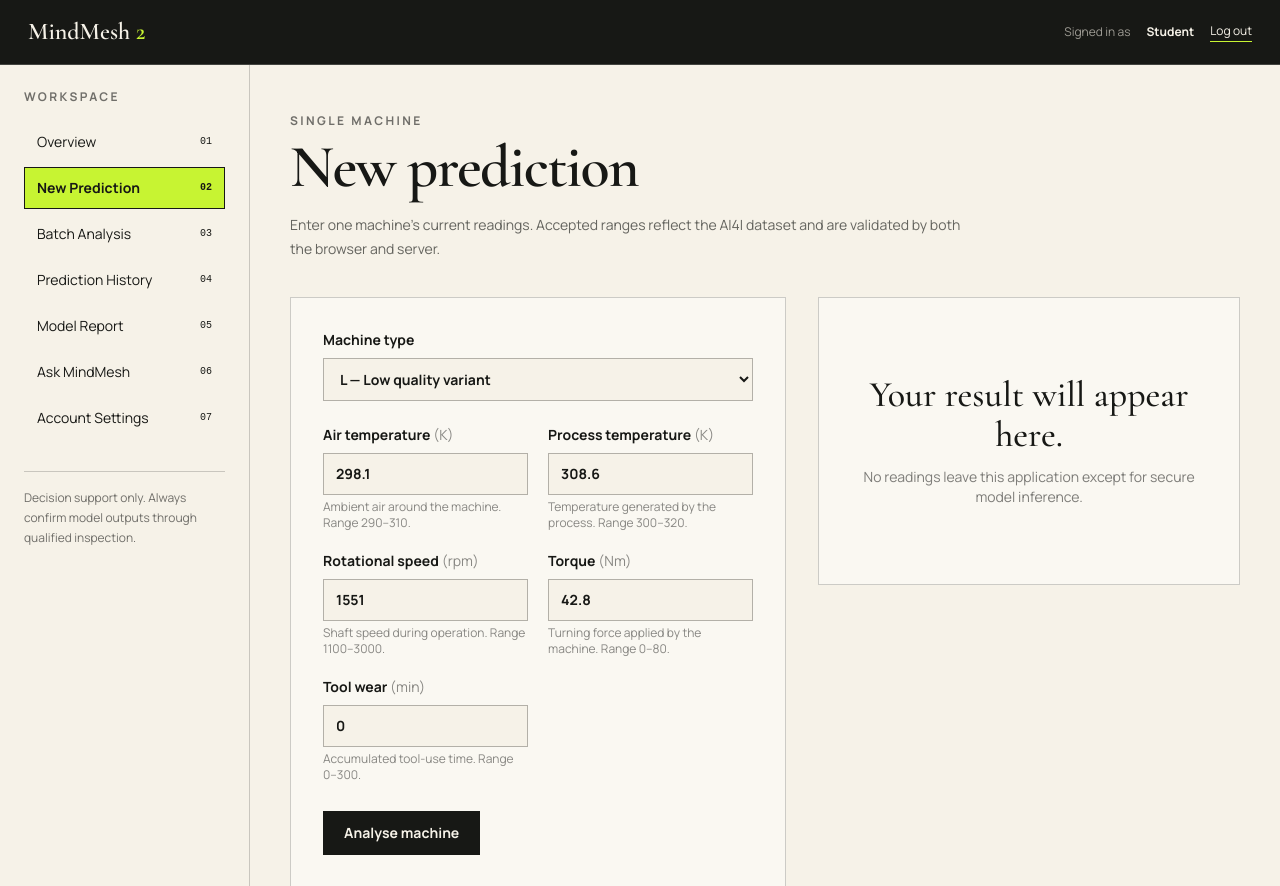
Test: shows server validation errors without losing the form
Expected: the heading "New prediction" is shown, top-left (290, 131), bottom-right (638, 203)
Click the button "Analyse machine".
click(402, 833)  # box top-left (323, 811), bottom-right (480, 855)
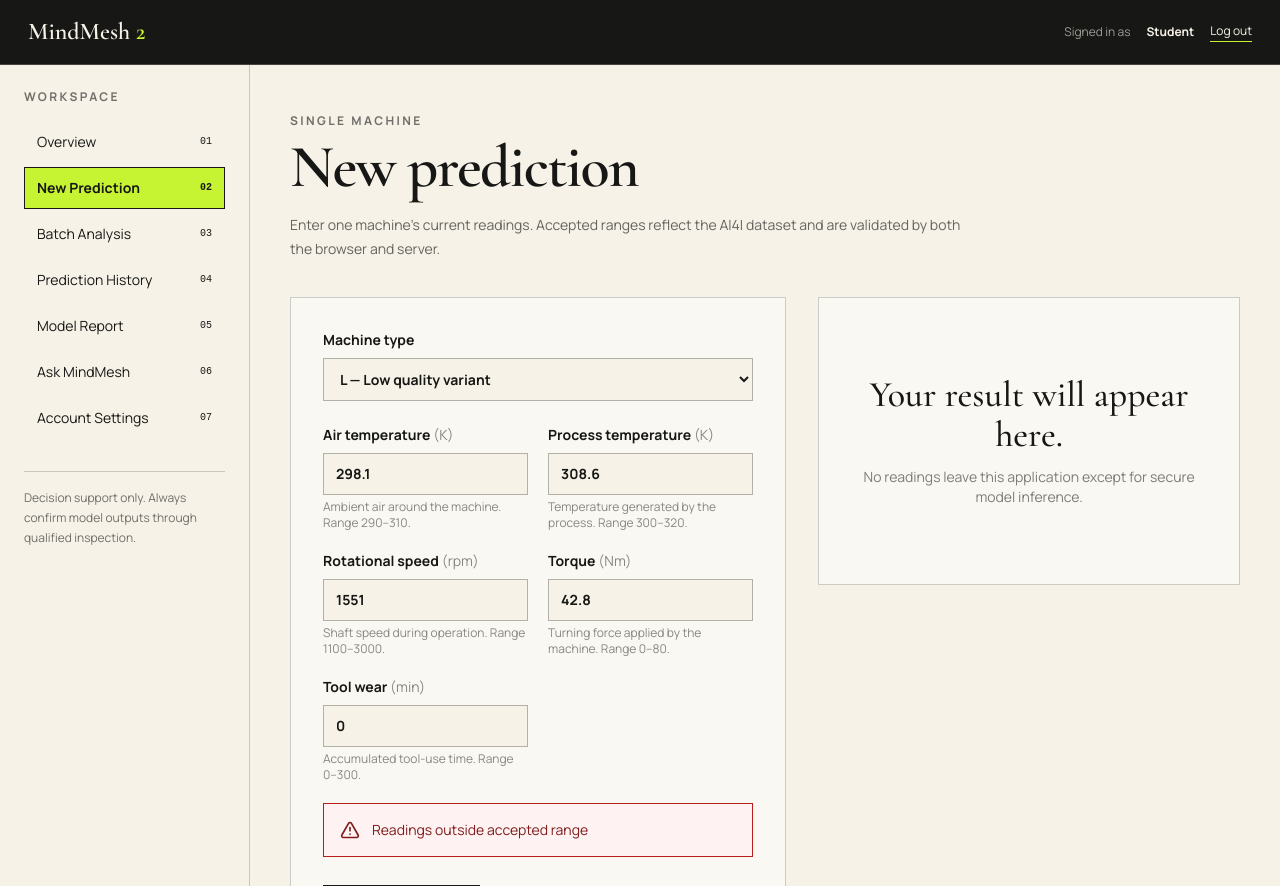
Now the message reads "Readings outside accepted range", box top-left (372, 820), bottom-right (588, 839)
